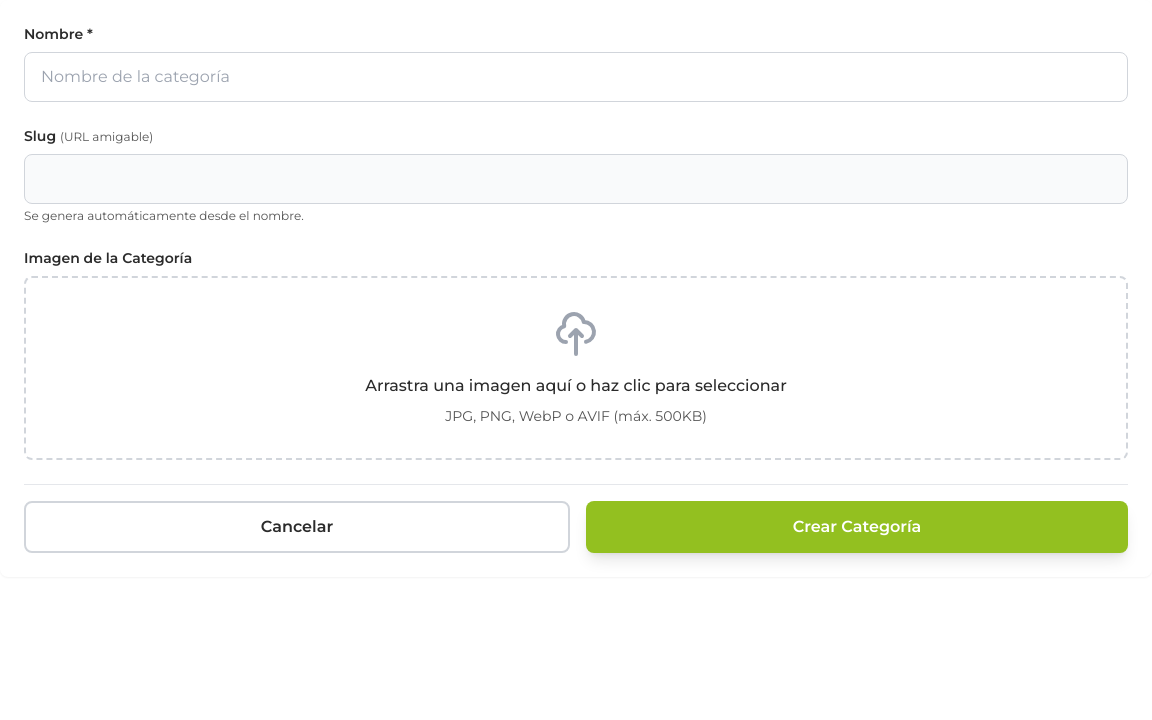
Scenario: CategoryForm › Form Submission › should handle submission error
The image size is (1152, 720).
Type "Test" into the field labelled "Nombre *" at x=576, y=77, box top-left (24, 52), bottom-right (1128, 102)
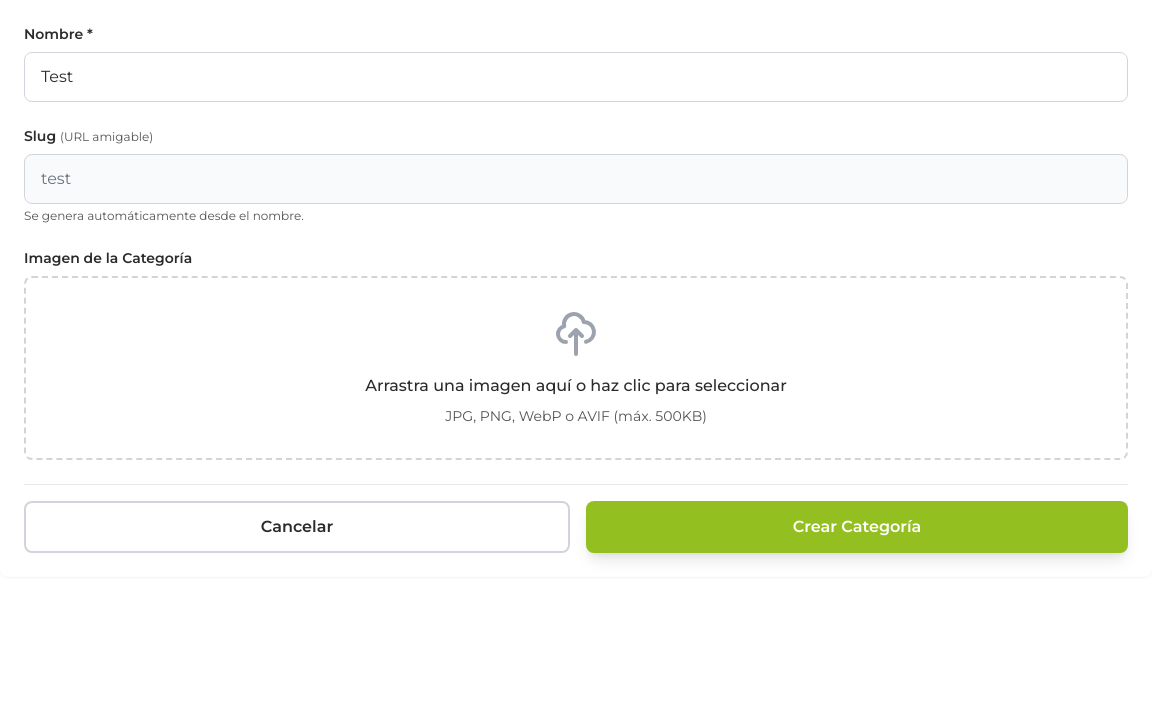
Click the button "Crear Categoría" at x=857, y=527, box top-left (586, 501), bottom-right (1128, 553)
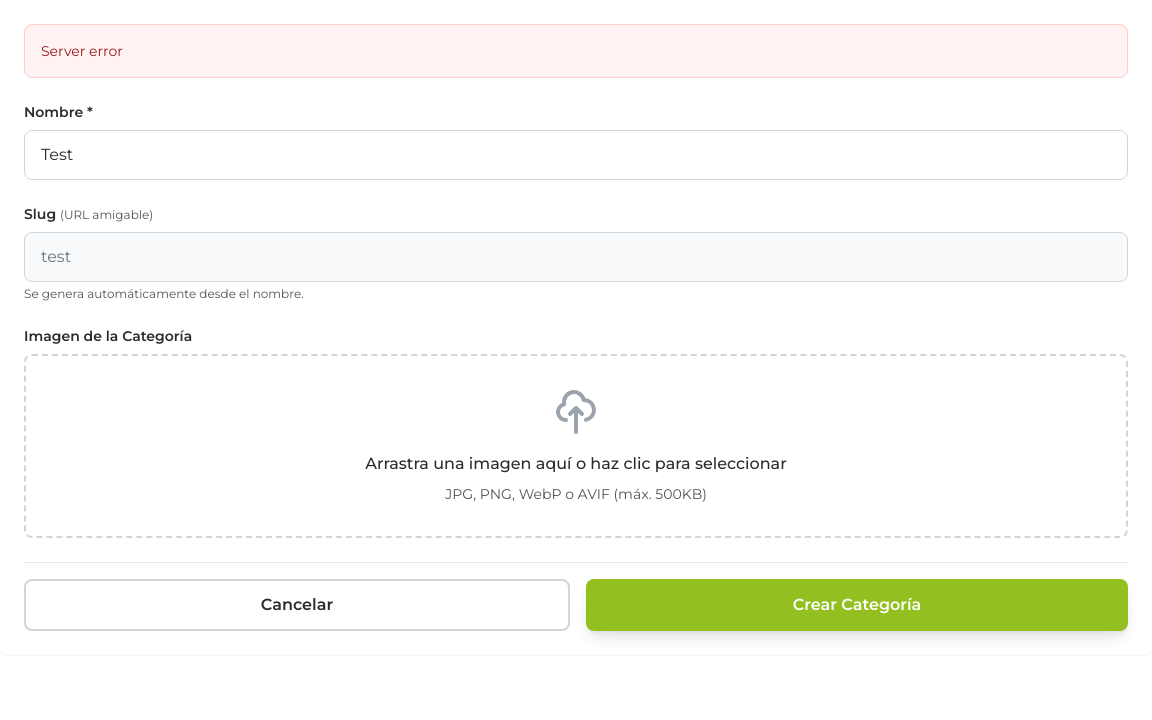
Expected: the text "Server error" is shown, top-left (41, 42), bottom-right (123, 60)
